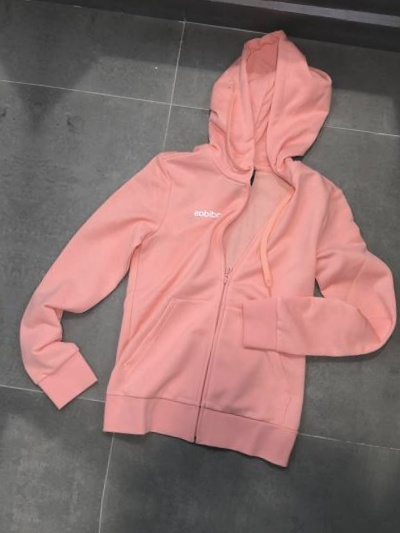Hoodie: (0, 0, 400, 500), (0, 0, 45, 451), (0, 521, 345, 533), (65, 0, 400, 3)
